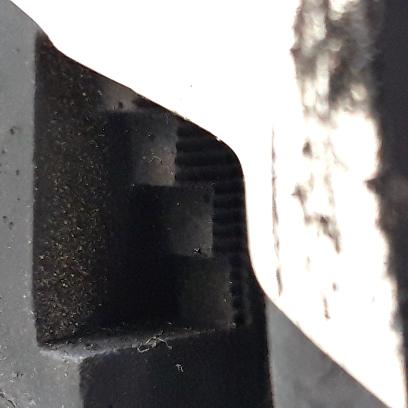temoin:100: (32, 28, 249, 365)
